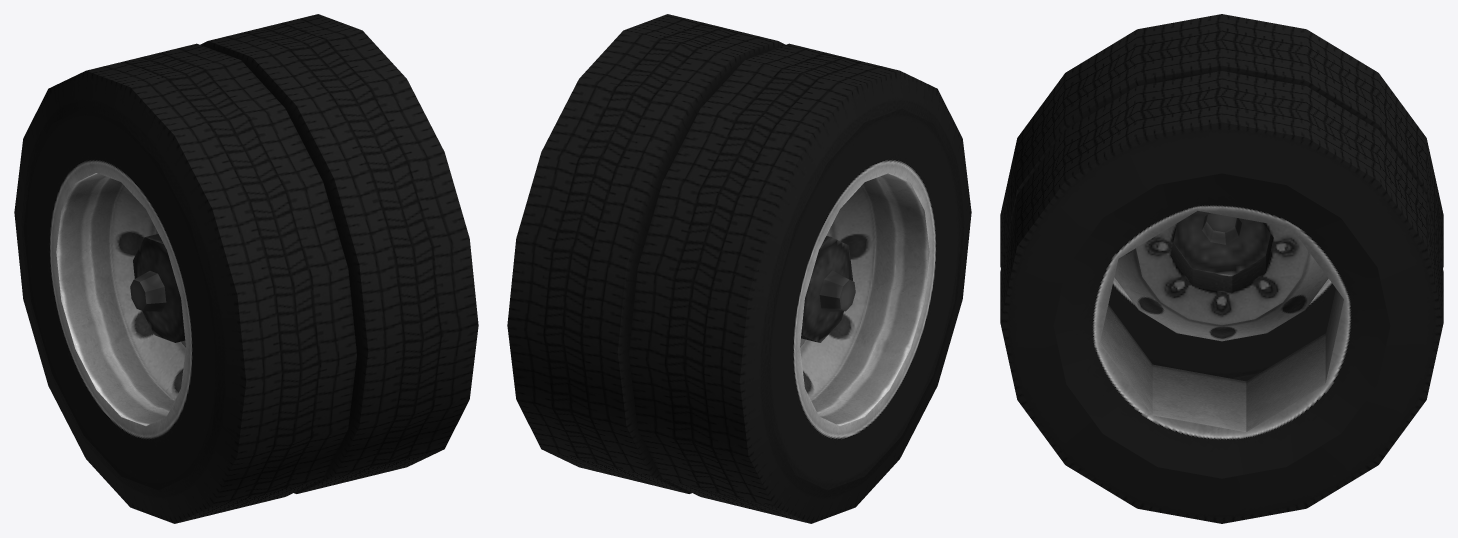
Rendered from Wheel BRFire Truck.fbx.
3 views of the same model, side by side, from view 1: azimuth 30°, elevation 25°; view 2: azimuth 150°, elevation 25°; view 3: azimuth 270°, elevation 25° (orthographic). The views are drawn at different scales.
Visible parts, largest first — view 1: Wheel BRFire Truck; view 2: Wheel BRFire Truck; view 3: Wheel BRFire Truck.
Boxes of the visible parts, x1,y1,x2,y2 form: Wheel BRFire Truck: (14, 14, 478, 523); Wheel BRFire Truck: (507, 14, 971, 523); Wheel BRFire Truck: (1000, 14, 1443, 523).
Size of the model in its own units: 52.79 by 85.59 by 85.59.
